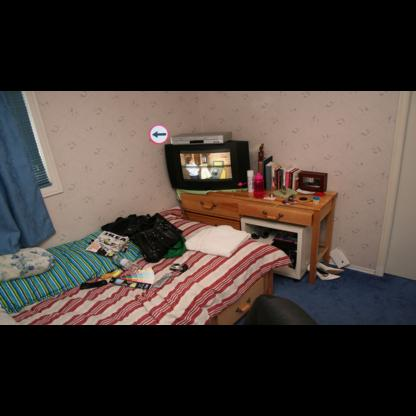R-24a: (148, 124, 169, 144)
